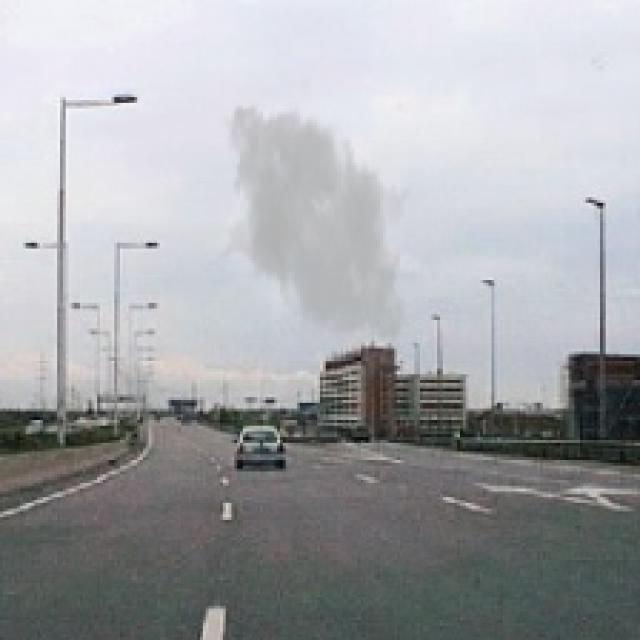Smoke: (208, 95, 420, 352)
